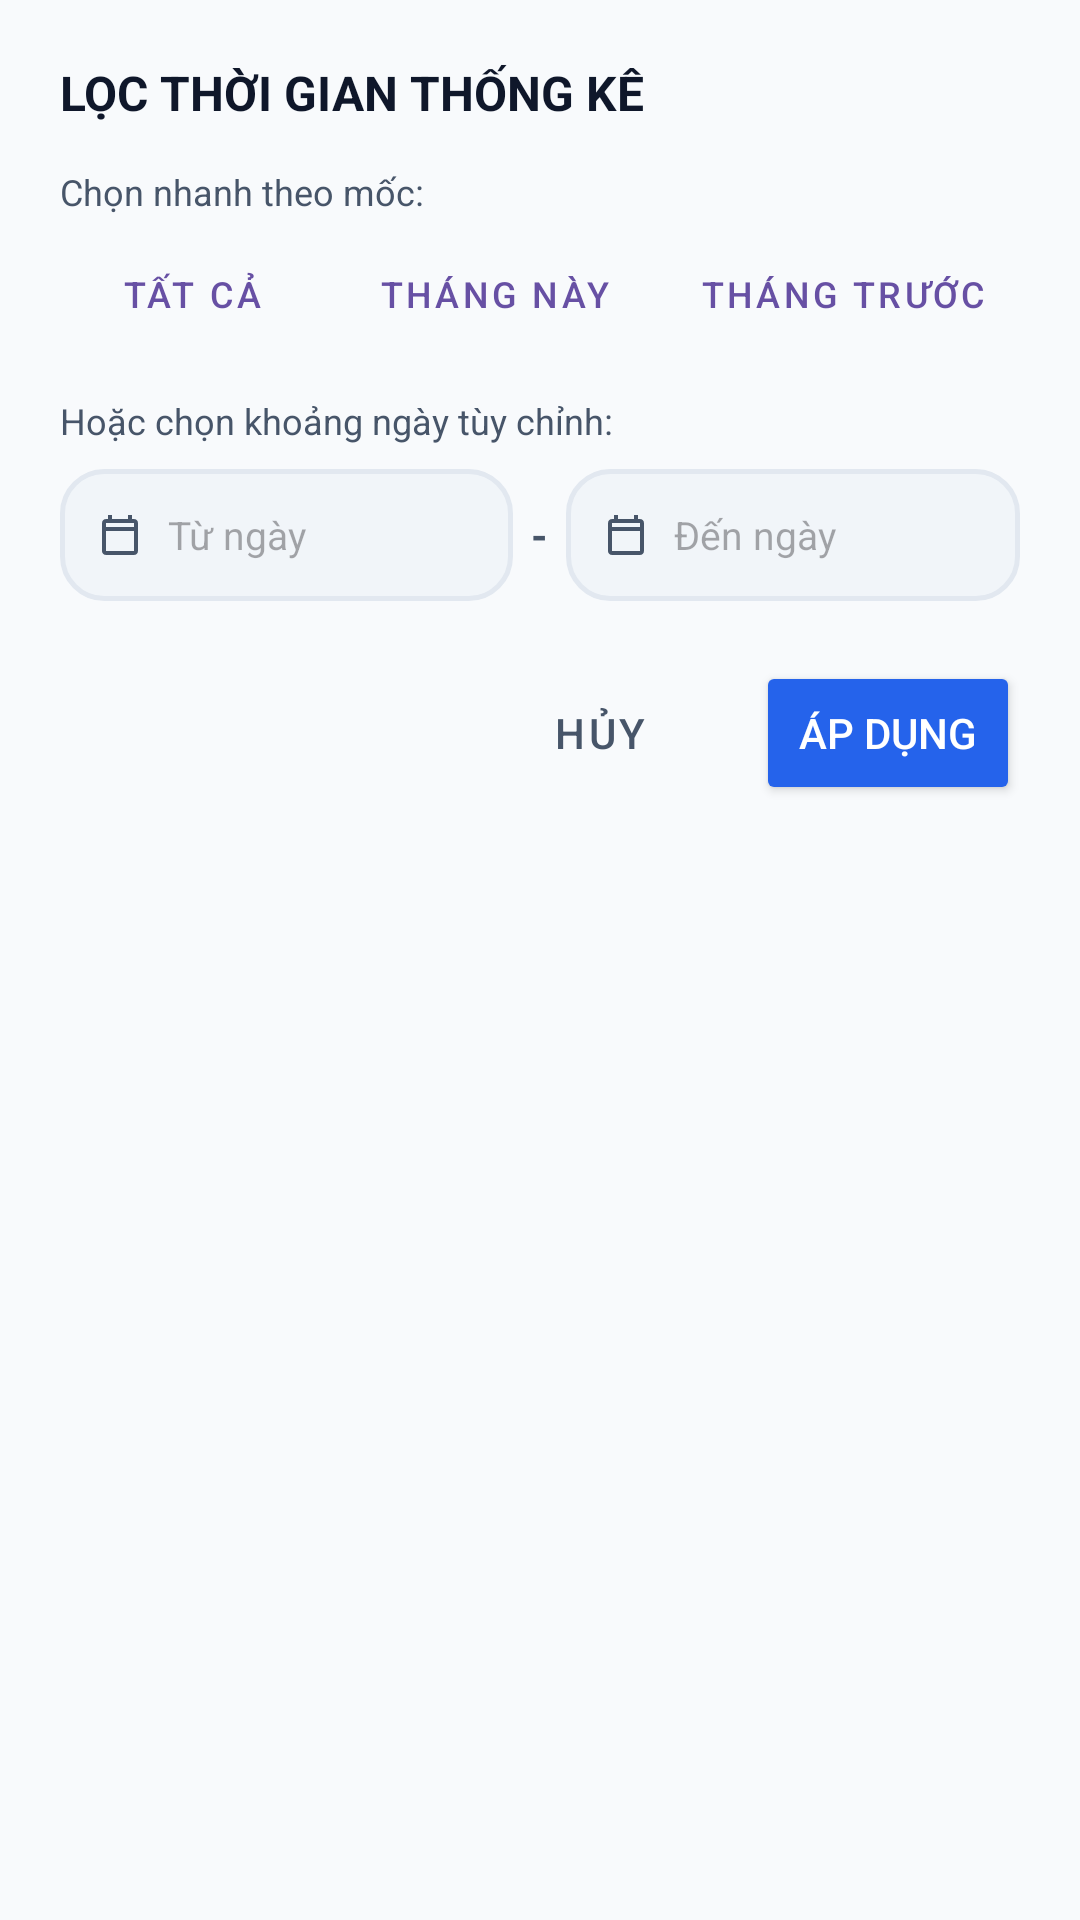

Icons on this 1080px×1920px Android screen, each with the point to tap as point (x, y):
calendar: point (120, 535), point (626, 535)
